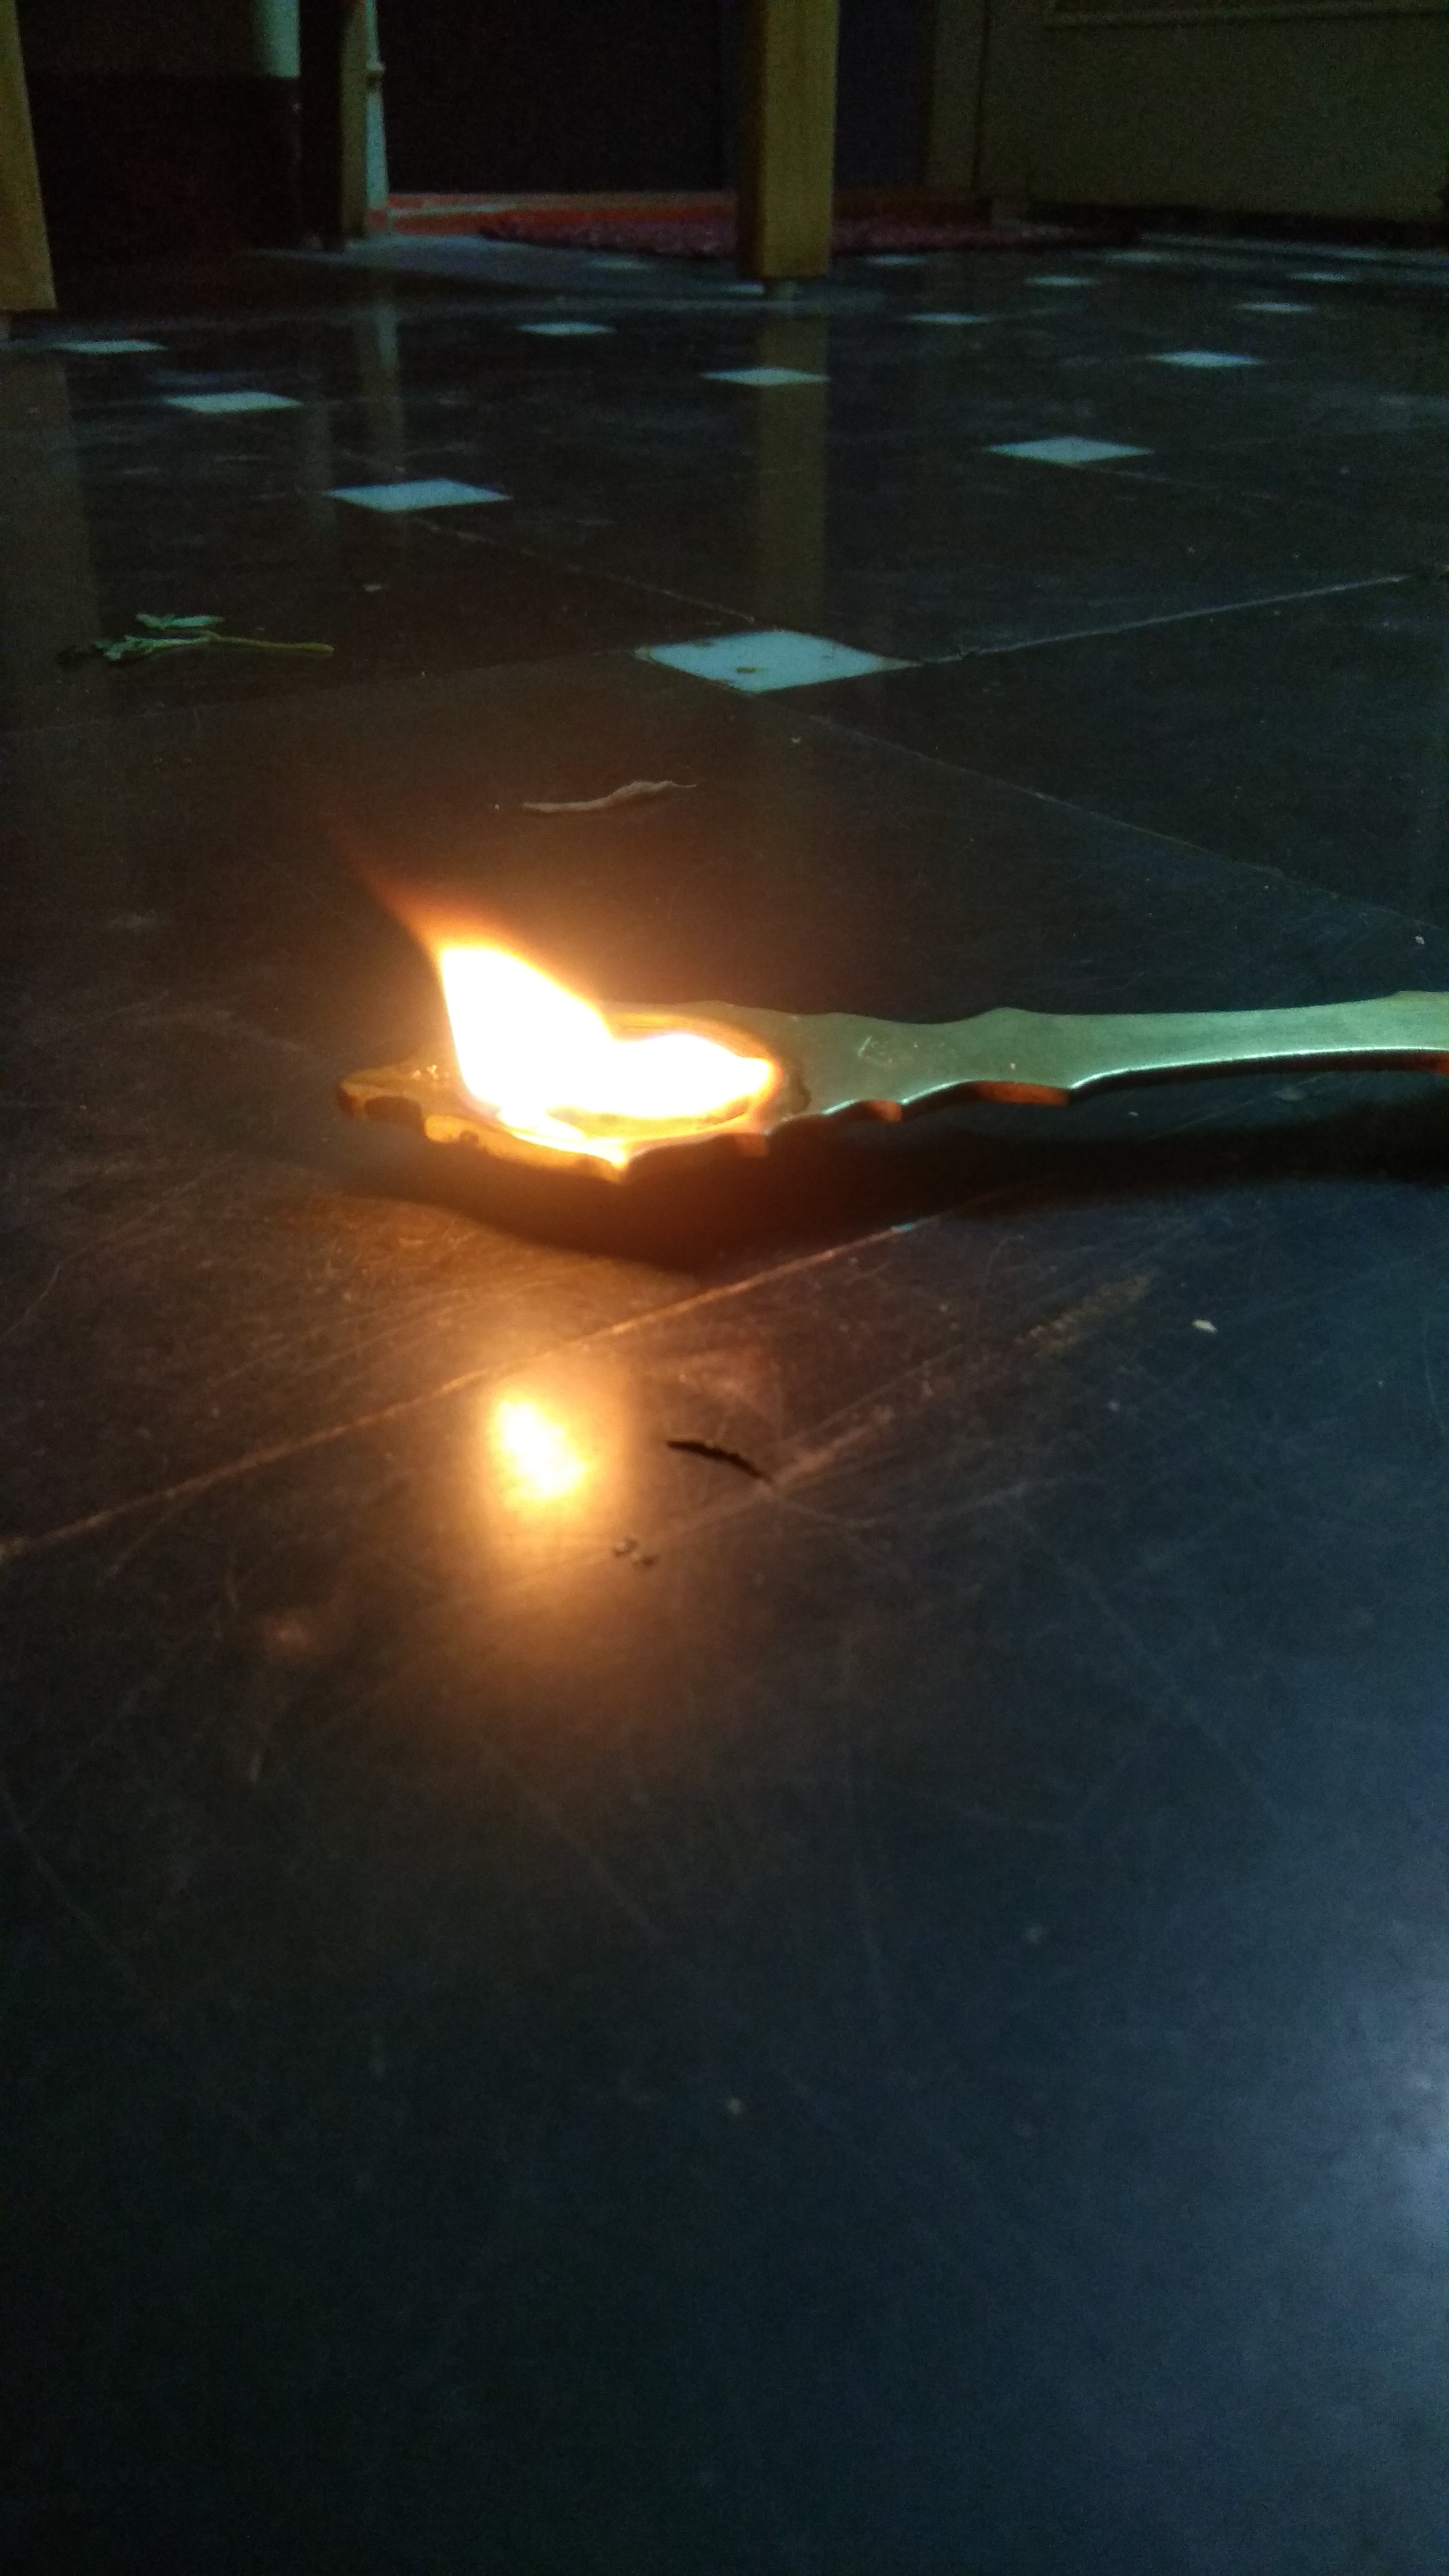Fire: (345, 860, 839, 1178)
